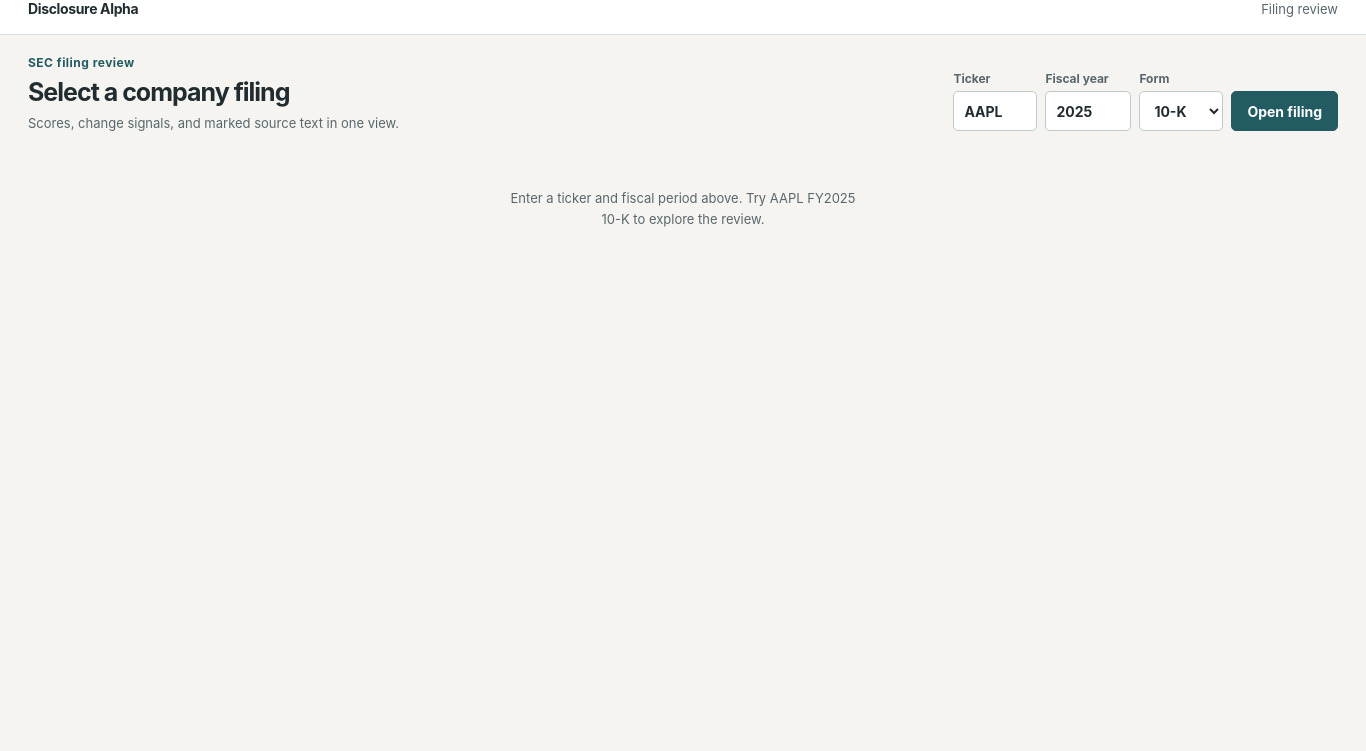
Test: filing review › navigates only filtered evidence and reveals overview hits hidden by filters
Step 1. Click the button "Open filing" → x=1285, y=111, box x1=1231 y1=91 x2=1338 y2=131
(page scrolled)
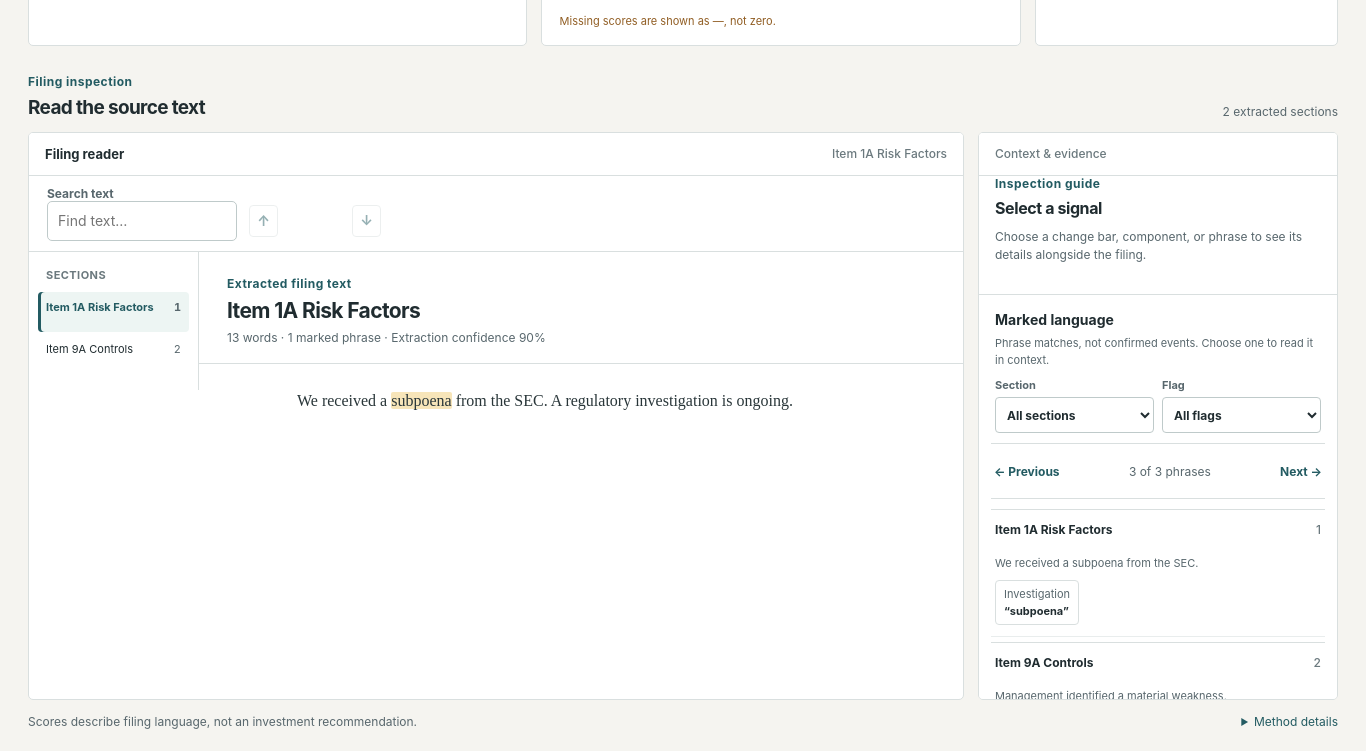
Now the heading "Marked language" is shown, box x1=995 y1=311 x2=1114 y2=328
Step 2. Select "Material Weakness" in the dropdown named "Filter evidence by flag" → x=1242, y=415, box x1=1162 y1=397 x2=1321 y2=433
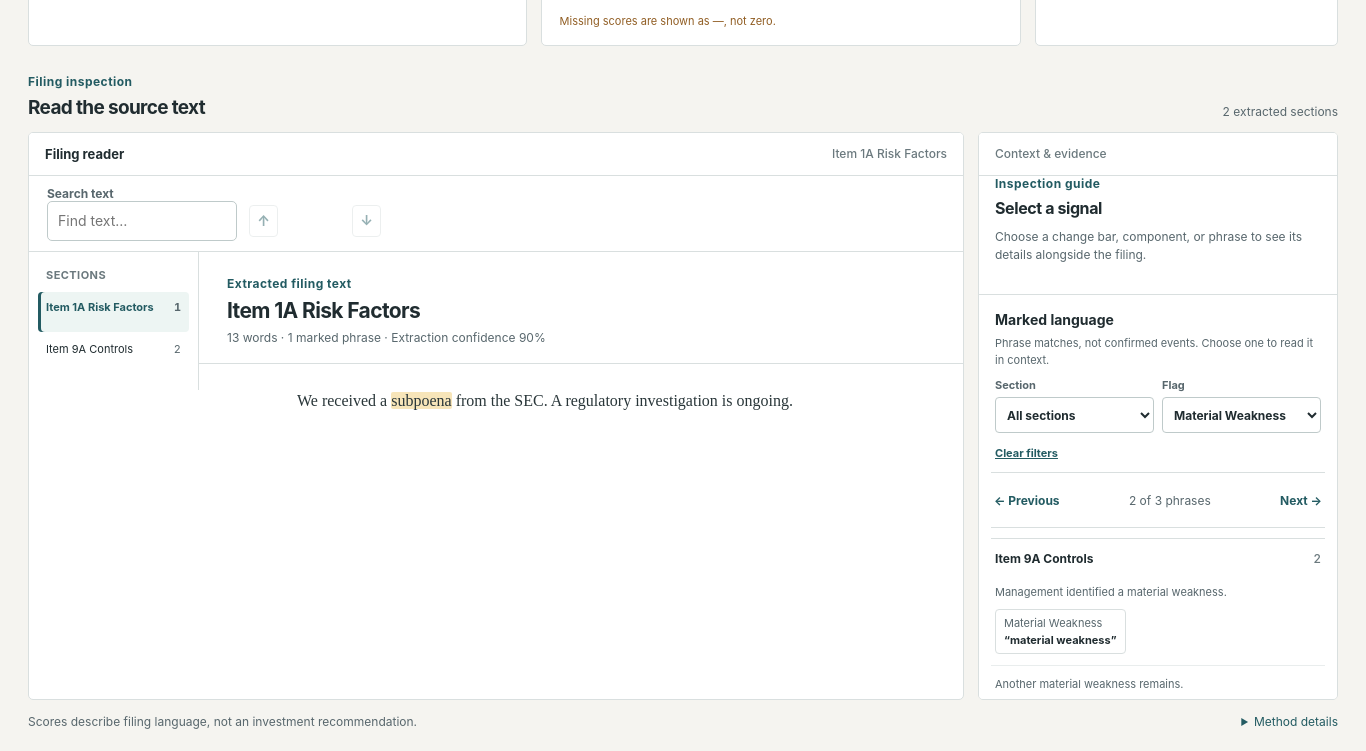
Step 3. Click the button "Next →" → x=1301, y=500, box x1=1277 y1=480 x2=1325 y2=520
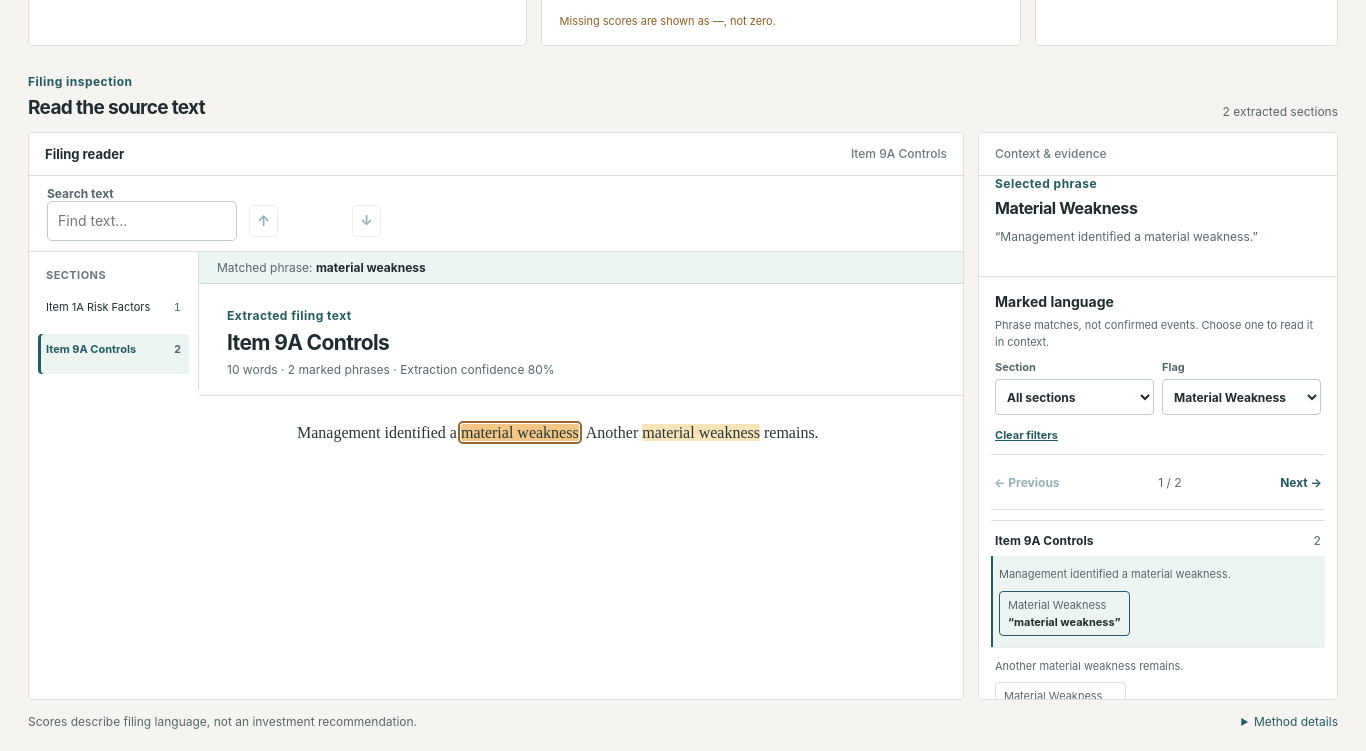
Now the text "1 / 2" is shown, box x1=1158 y1=475 x2=1182 y2=490
Step 4. Click the button "Next →" → x=1301, y=482, box x1=1277 y1=462 x2=1325 y2=502
(page scrolled)
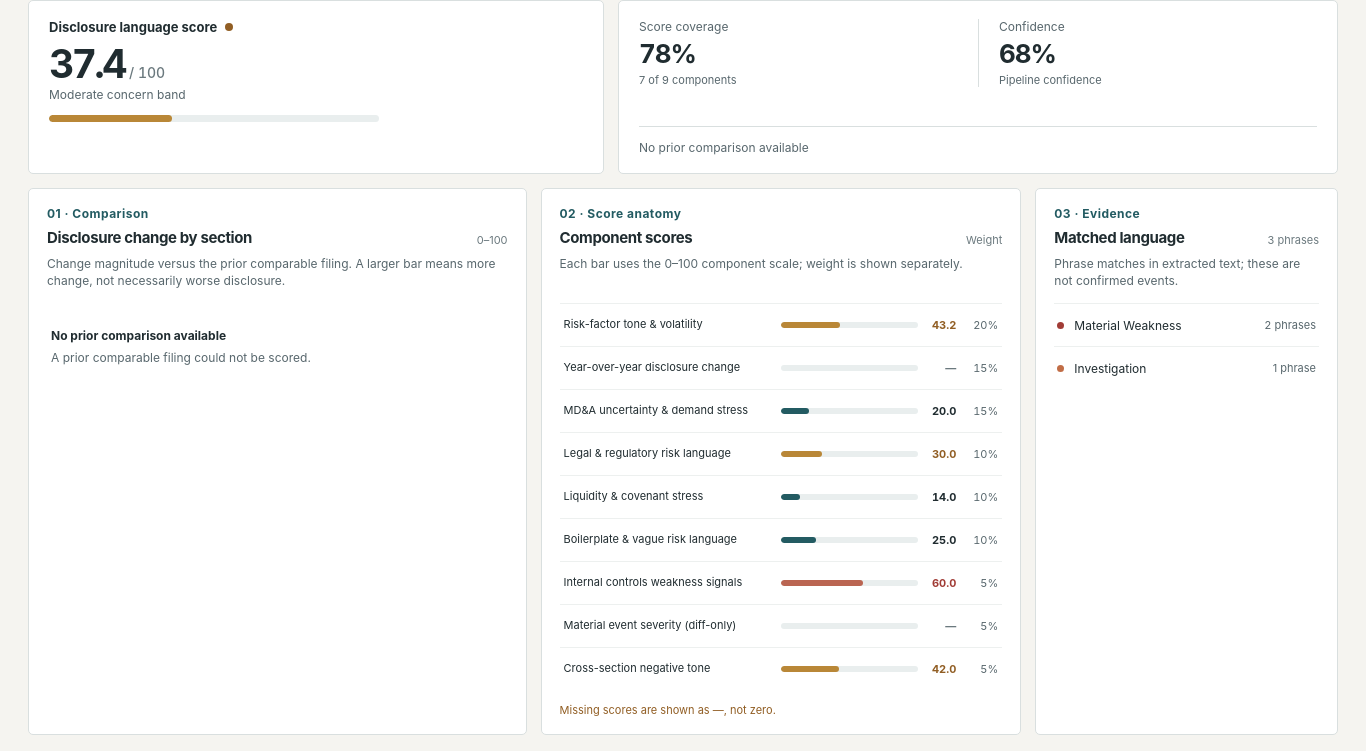
Step 5. Click the button "Investigation 1 phrase" → x=1110, y=368, box x1=1054 y1=346 x2=1319 y2=389
(page scrolled)
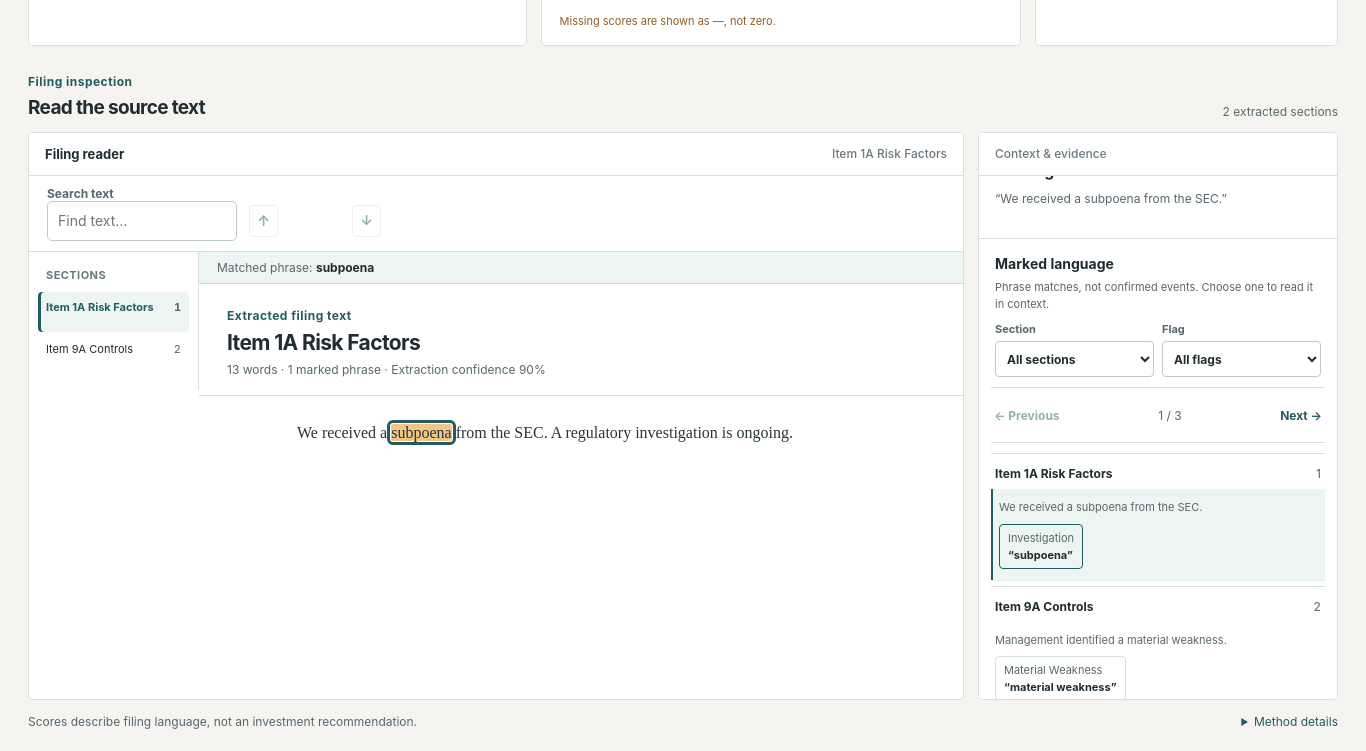
Now the text "1 / 3" is shown, box x1=1158 y1=408 x2=1182 y2=423
